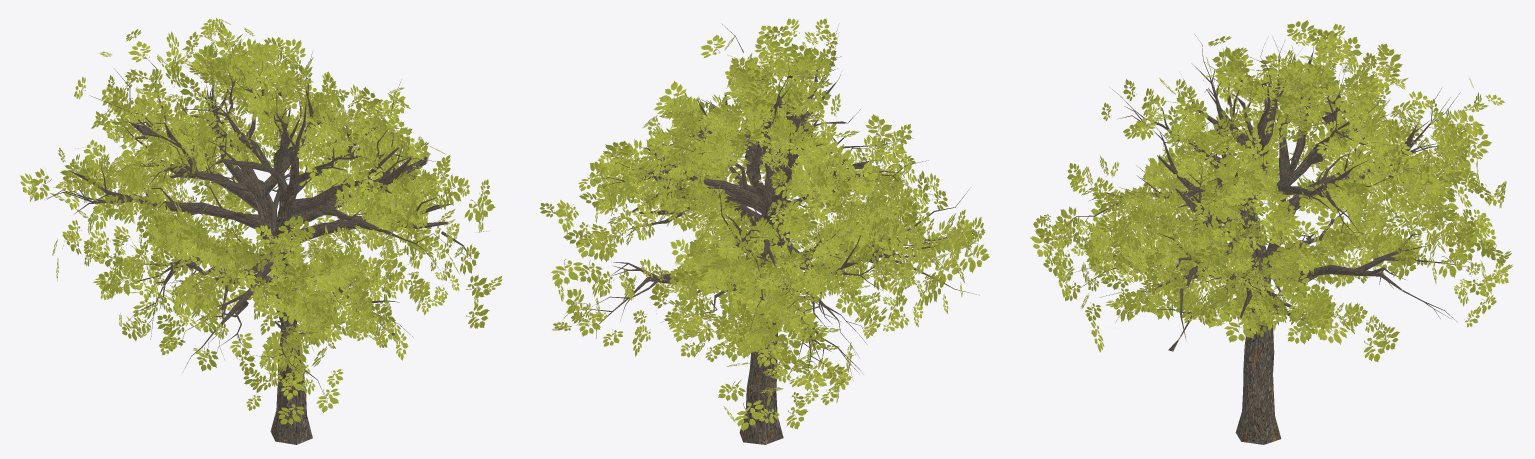
The model's file is Tree_2_2.glb.
3 renders of one model, left to right at view 1: azimuth 30°, elevation 25°; view 2: azimuth 150°, elevation 25°; view 3: azimuth 270°, elevation 25°, orthographic. The views are drawn at different scales.
Visible parts, largest first — view 1: Tree_2_V2; view 2: Tree_2_V2; view 3: Tree_2_V2.
Boxes of the visible parts, x1,y1,x2,y2 form: Tree_2_V2: [20, 18, 502, 444]; Tree_2_V2: [539, 18, 989, 444]; Tree_2_V2: [1030, 20, 1512, 444].
Bounding box in the file's own units: 5.34 × 5.71 × 6.58.
1 material, 1 textured.
